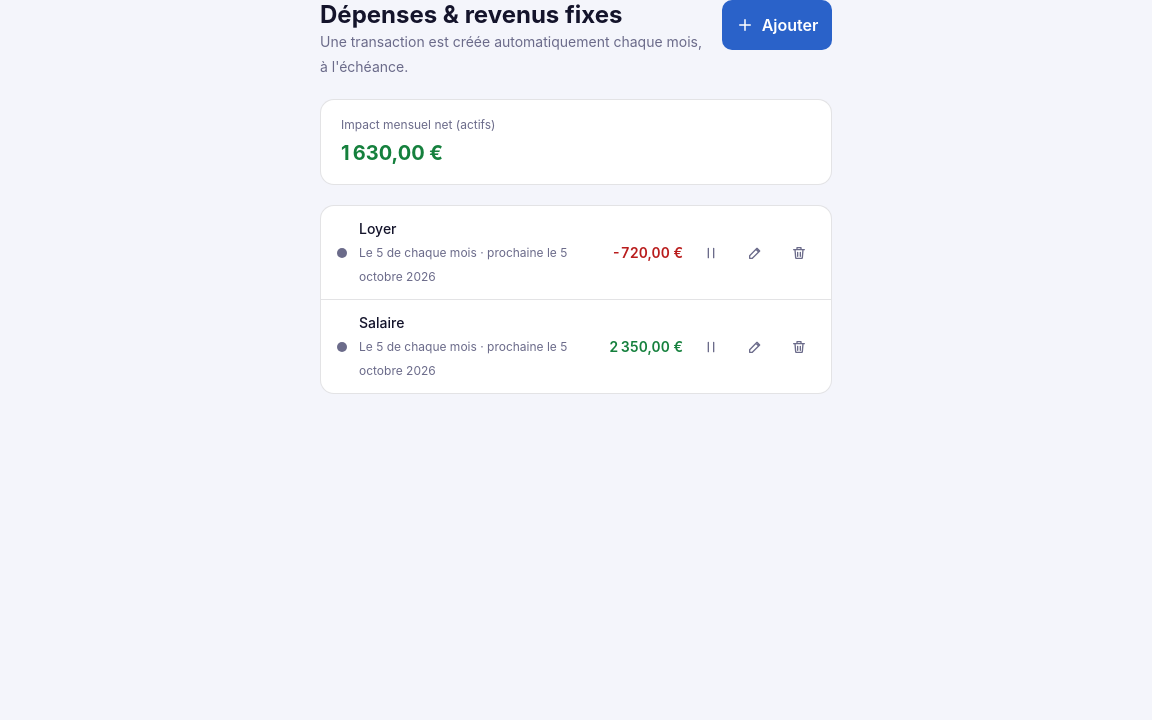
Test: RecurringPage — édition › rouvrir sur une autre charge préremplit avec celle-ci
The image size is (1152, 720).
Click the button named "Modifier Loyer" at x=755, y=252, box [739,236,771,268]
(page scrolled)
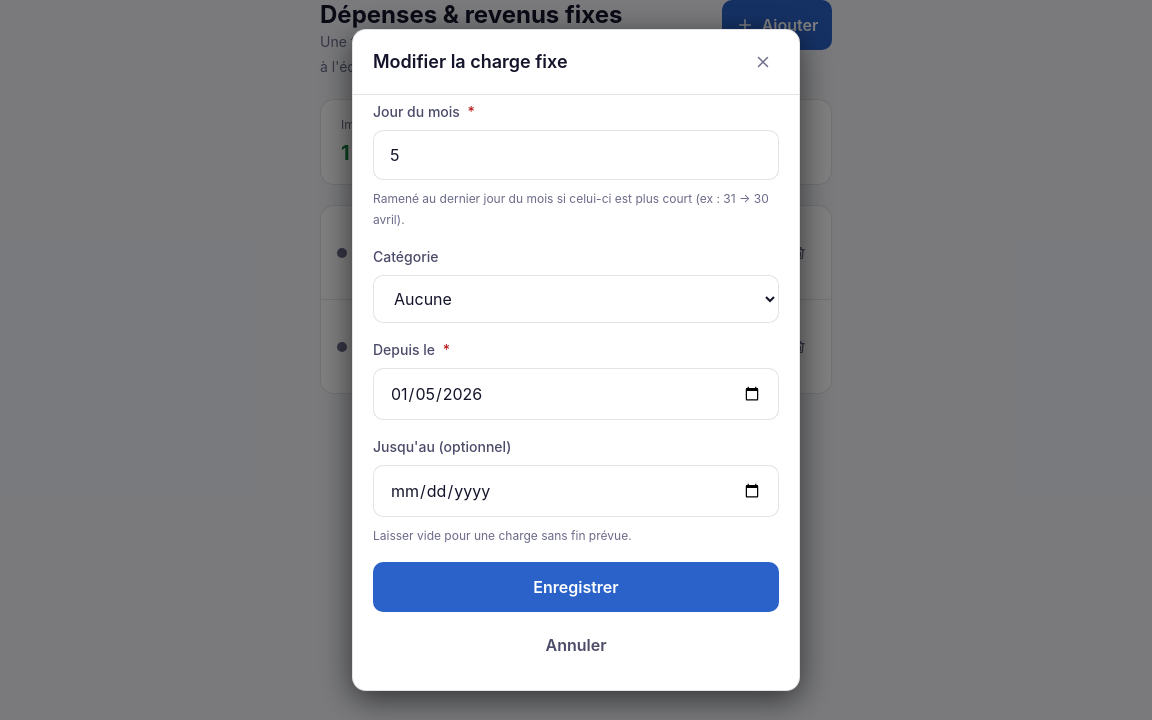
Click the button "Annuler" at x=576, y=645, box [373,620,779,670]
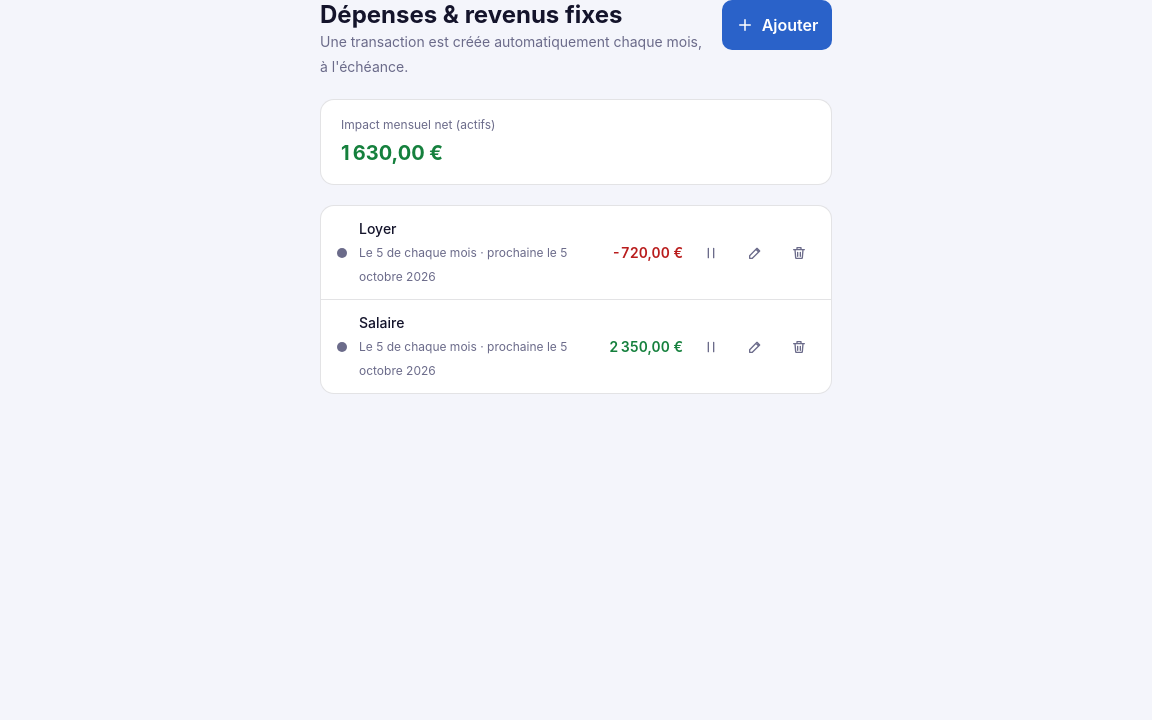
Click the button named "Modifier Salaire" at x=755, y=346, box [739,330,771,362]
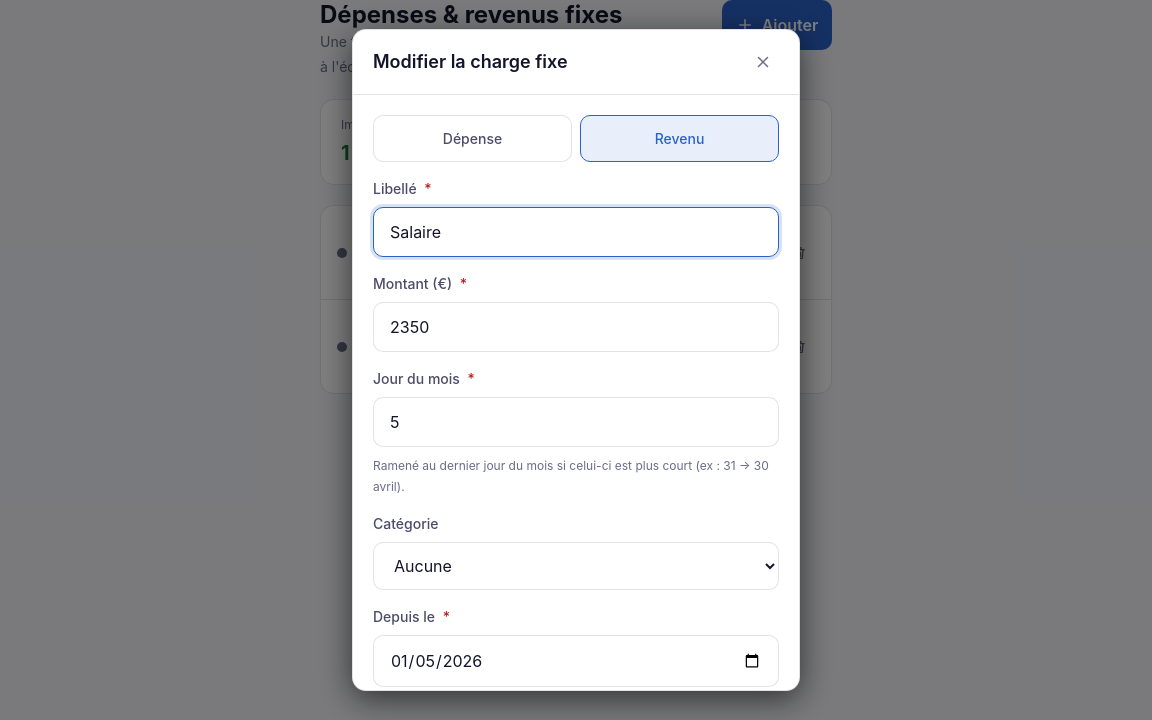
Check: the field with id "recurring-title" holds "Salaire", box [373,207,779,257]
